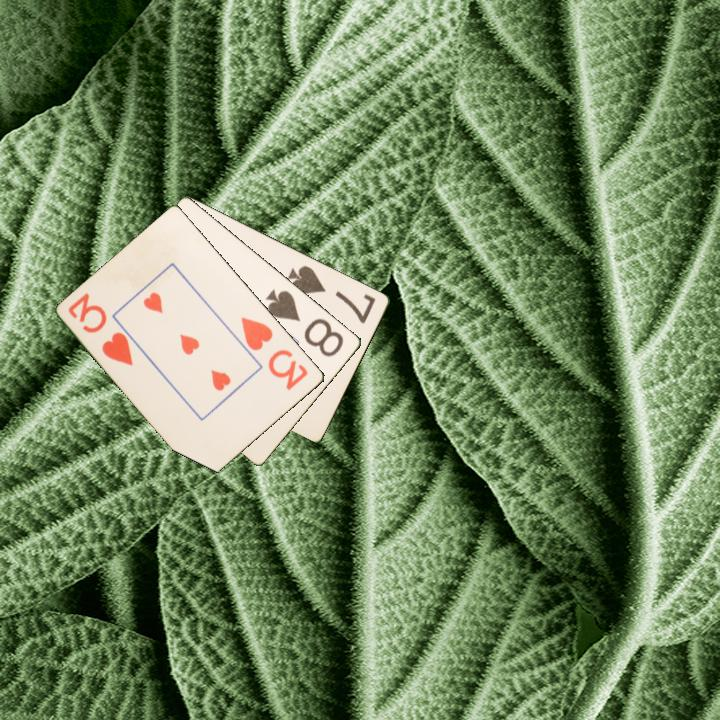3h: (238, 313, 311, 393), (65, 289, 136, 369)
7s: (285, 262, 379, 327)
8s: (262, 285, 347, 360)
